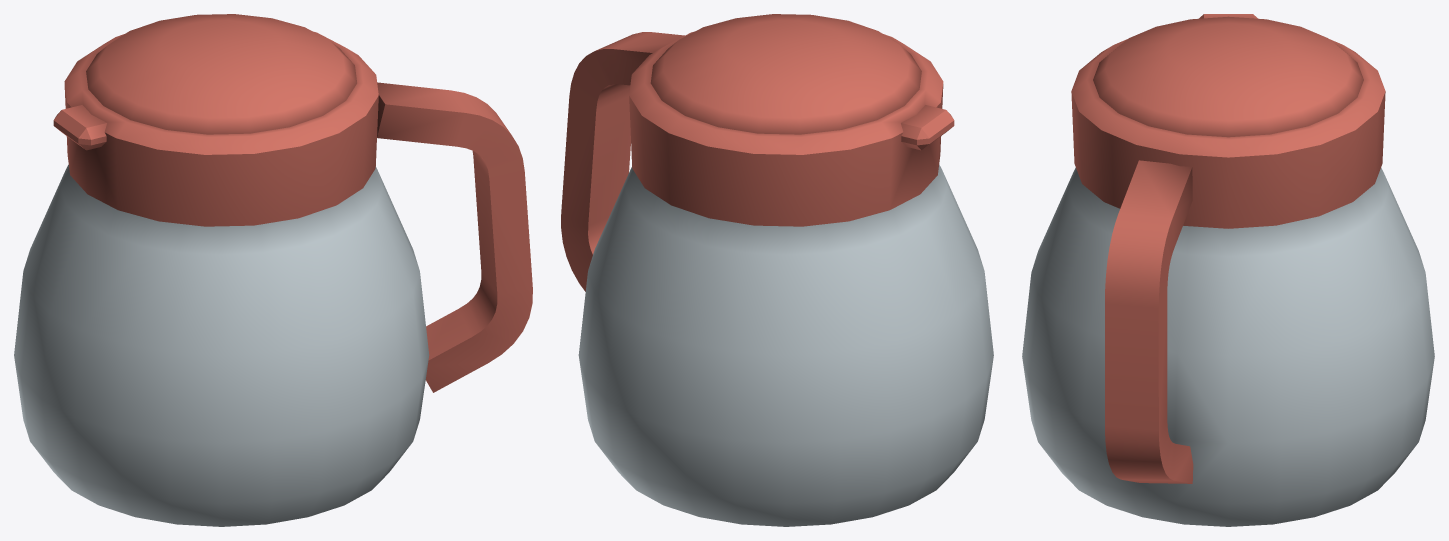
The model's file is coffee_pot.glb.
The picture shows the model from 3 angles, left to right: view 1: azimuth 30°, elevation 25°; view 2: azimuth 150°, elevation 25°; view 3: azimuth 270°, elevation 25°; orthographic projection.
Parts seen in each view (by area): view 1: PART; view 2: PART; view 3: PART.
Boxes of the visible parts, bbox=[...] form: PART: bbox=[14, 14, 532, 526]; PART: bbox=[561, 14, 993, 526]; PART: bbox=[1022, 14, 1434, 526].
Size of the model in its own units: 0.164 by 0.146 by 0.134.
